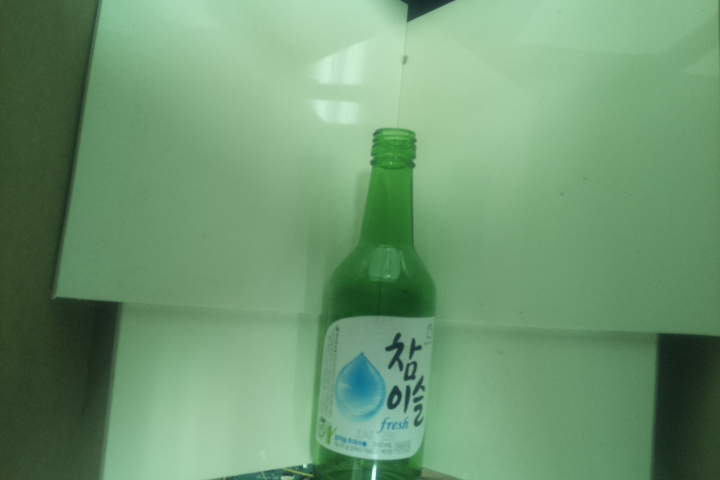soju: (310, 127, 442, 480)
